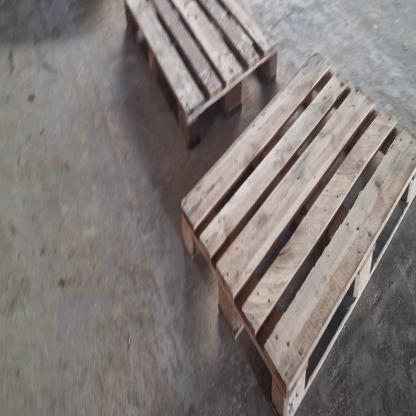BoxFace: (180, 49, 416, 416), (125, 0, 278, 157)
